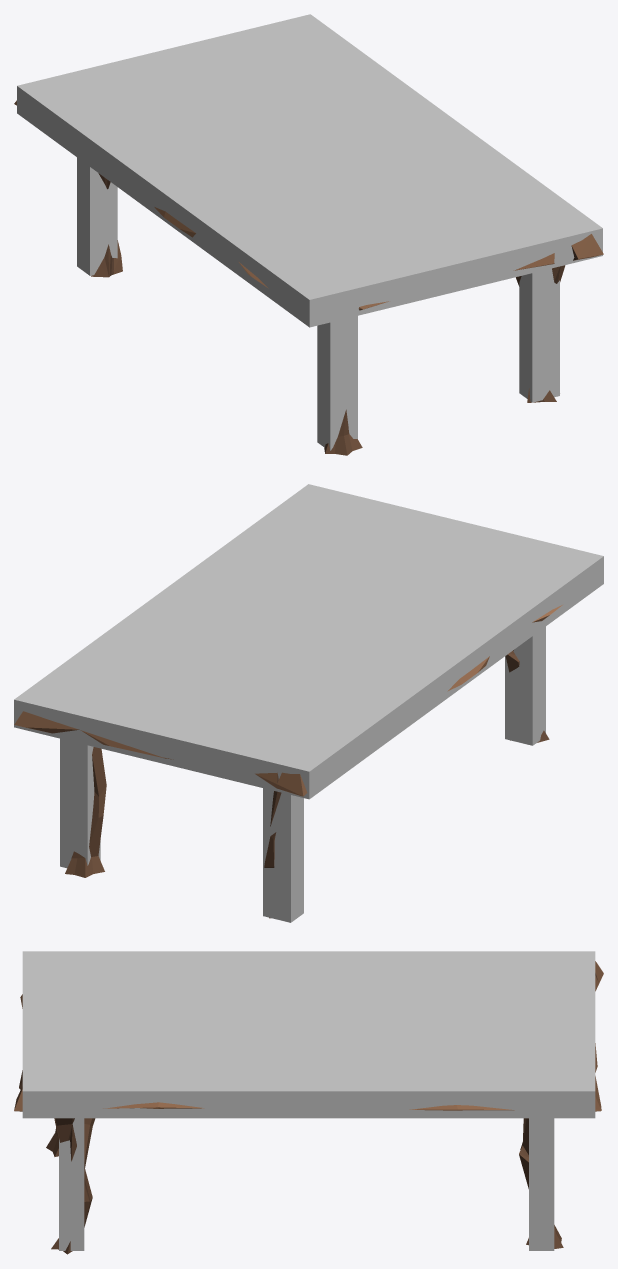
File: SM_Prop_Table_03.fbx
3 renders of one model, top to bottom at view 1: azimuth 30°, elevation 25°; view 2: azimuth 150°, elevation 25°; view 3: azimuth 270°, elevation 25°, orthographic. The views are drawn at different scales.
Visible parts, largest first — view 1: SM_Prop_Table_03_ConvexHulls, SM_Prop_Table_03; view 2: SM_Prop_Table_03_ConvexHulls, SM_Prop_Table_03; view 3: SM_Prop_Table_03_ConvexHulls, SM_Prop_Table_03.
Boxes of the visible parts, box(x1,y1,x2,y2) form: SM_Prop_Table_03_ConvexHulls: box(17, 14, 602, 450); SM_Prop_Table_03: box(14, 100, 603, 455); SM_Prop_Table_03_ConvexHulls: box(14, 484, 603, 922); SM_Prop_Table_03: box(14, 605, 562, 918); SM_Prop_Table_03_ConvexHulls: box(22, 951, 595, 1250); SM_Prop_Table_03: box(14, 961, 603, 1254).
Bounding box in the file's own units: 143 × 251 × 81.08.
2 materials, 1 textured.
